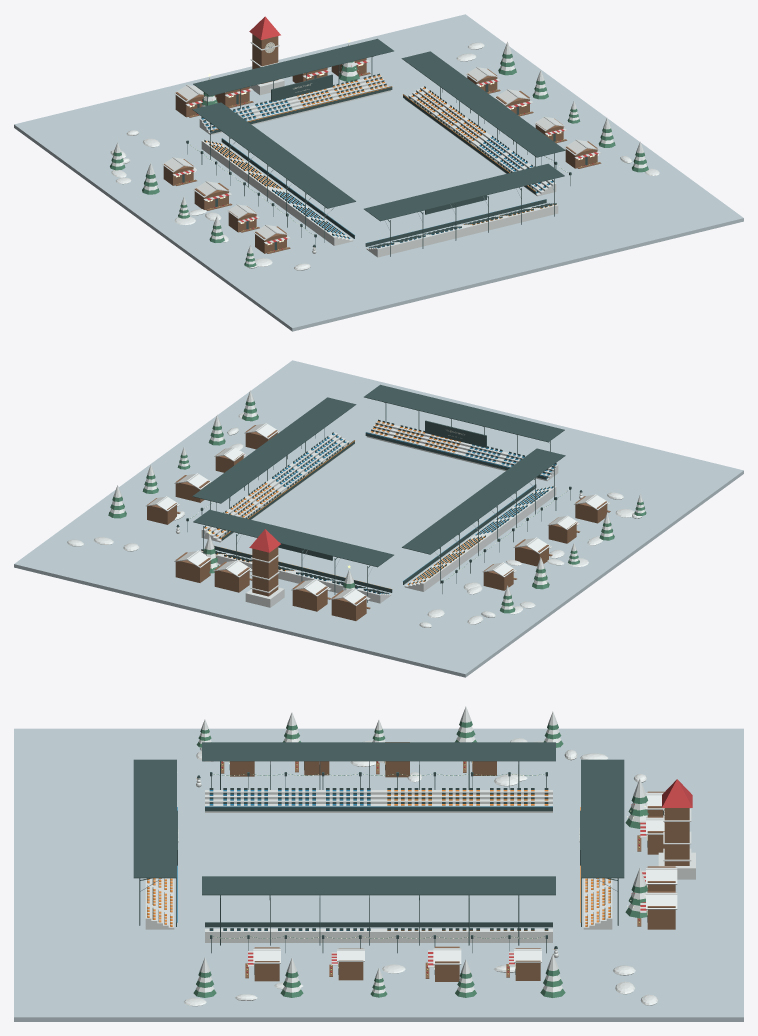
The model's file is yuletide.glb.
3 renders of one model, top to bottom at view 1: azimuth 30°, elevation 25°; view 2: azimuth 150°, elevation 25°; view 3: azimuth 270°, elevation 25°, orthographic. The views are drawn at different scales.
Parts seen in each view (by area): view 1: yuletide_Scenery_ground, yuletide_Venue_structural_steel, yuletide_Pale_stone_or_snow, yuletide_Timber_or_panel_substrate, yuletide_Foliage_or_secondary_panels, yuletide_Orange_end_seating, yuletide_Blue_end_seating, yuletide_Signature_vermilion; view 2: yuletide_Scenery_ground, yuletide_Venue_structural_steel, yuletide_Pale_stone_or_snow, yuletide_Timber_or_panel_substrate, yuletide_Foliage_or_secondary_panels, yuletide_Blue_end_seating, yuletide_Orange_end_seating; view 3: yuletide_Scenery_ground, yuletide_Venue_structural_steel, yuletide_Pale_stone_or_snow, yuletide_Timber_or_panel_substrate, yuletide_Foliage_or_secondary_panels, yuletide_Orange_end_seating, yuletide_Blue_end_seating, yuletide_Signature_vermilion.
Boxes of the visible parts, bbox=[...] form: yuletide_Scenery_ground: bbox=[14, 14, 743, 331]; yuletide_Venue_structural_steel: bbox=[178, 38, 592, 256]; yuletide_Pale_stone_or_snow: bbox=[110, 42, 659, 270]; yuletide_Timber_or_panel_substrate: bbox=[163, 34, 601, 253]; yuletide_Foliage_or_secondary_panels: bbox=[110, 53, 648, 267]; yuletide_Orange_end_seating: bbox=[204, 75, 556, 225]; yuletide_Blue_end_seating: bbox=[201, 98, 553, 248]; yuletide_Signature_vermilion: bbox=[175, 16, 598, 251]; yuletide_Scenery_ground: bbox=[14, 360, 743, 677]; yuletide_Venue_structural_steel: bbox=[176, 384, 582, 602]; yuletide_Pale_stone_or_snow: bbox=[67, 390, 645, 627]; yuletide_Timber_or_panel_substrate: bbox=[147, 421, 610, 620]; yuletide_Foliage_or_secondary_panels: bbox=[108, 401, 646, 613]; yuletide_Blue_end_seating: bbox=[272, 432, 556, 594]; yuletide_Orange_end_seating: bbox=[201, 421, 485, 588]; yuletide_Scenery_ground: bbox=[14, 728, 743, 1021]; yuletide_Venue_structural_steel: bbox=[133, 742, 664, 974]; yuletide_Pale_stone_or_snow: bbox=[145, 706, 695, 1006]; yuletide_Timber_or_panel_substrate: bbox=[221, 742, 689, 981]; yuletide_Foliage_or_secondary_panels: bbox=[193, 721, 648, 997]; yuletide_Orange_end_seating: bbox=[147, 778, 610, 949]; yuletide_Blue_end_seating: bbox=[177, 790, 552, 930]; yuletide_Signature_vermilion: bbox=[221, 761, 692, 973].
Bounding box in the file's own units: 220 × 35 × 235.
